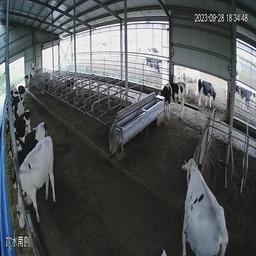cow: (171, 149, 221, 254), (13, 137, 58, 230), (159, 76, 186, 125), (8, 123, 44, 148), (195, 79, 218, 111), (4, 107, 31, 126), (3, 87, 25, 110)
